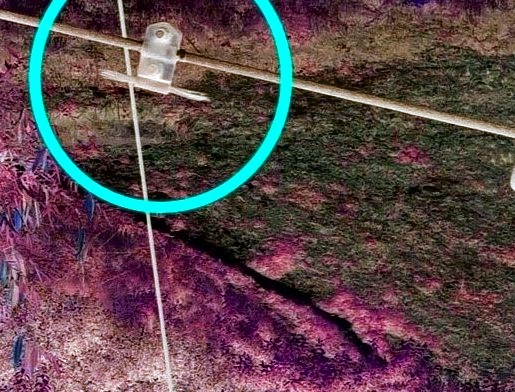Damage of shockproof hammer: (90, 19, 211, 114)
